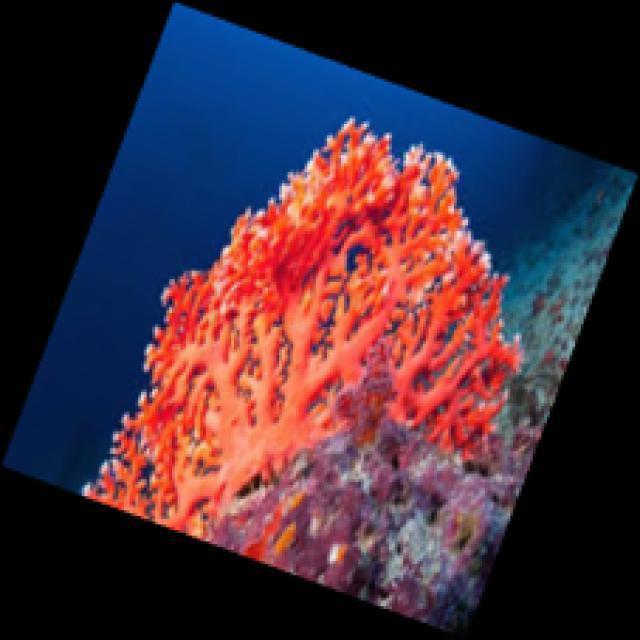Healthy: (86, 119, 524, 540)
